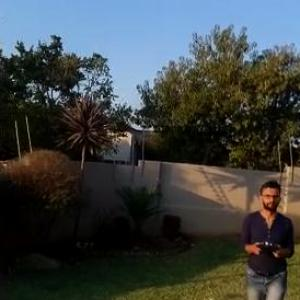follow: (235, 175, 298, 299)
